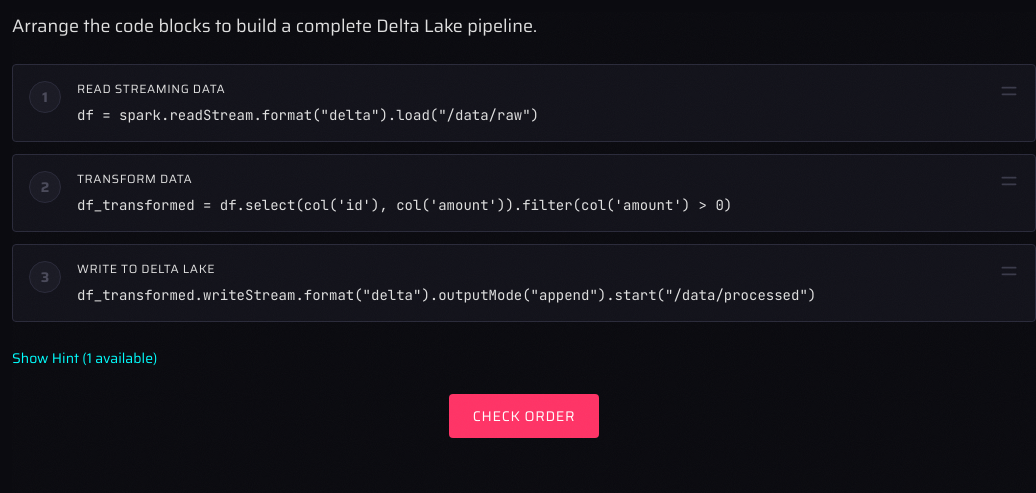
Test: DragDropChallenge › Hint Display › shows hint when button is clicked
Step 1. Click the button "Show Hint (1 available)" → (85, 358), box [12,348,157,368]
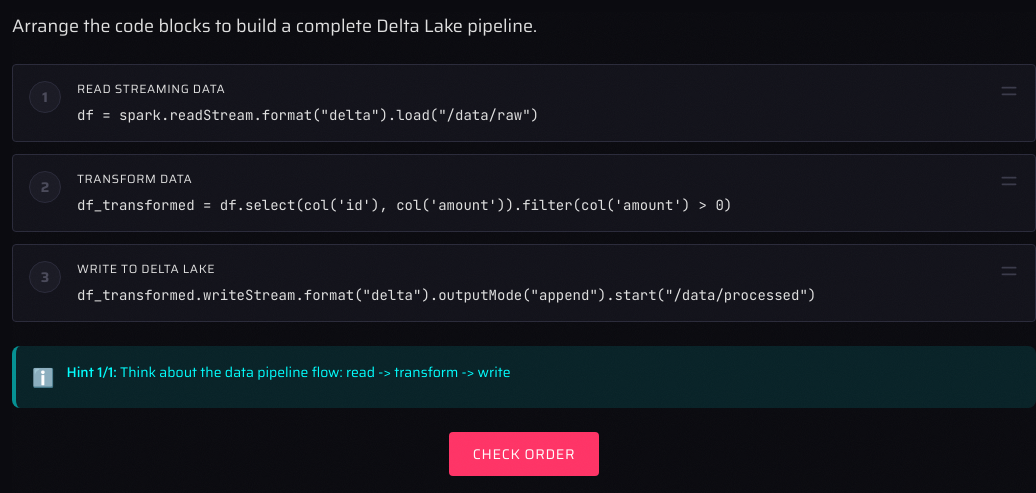
expect the text "Think about the data pipeline flow: read -> transform -> write" is shown: met, box [120,361,510,383]
